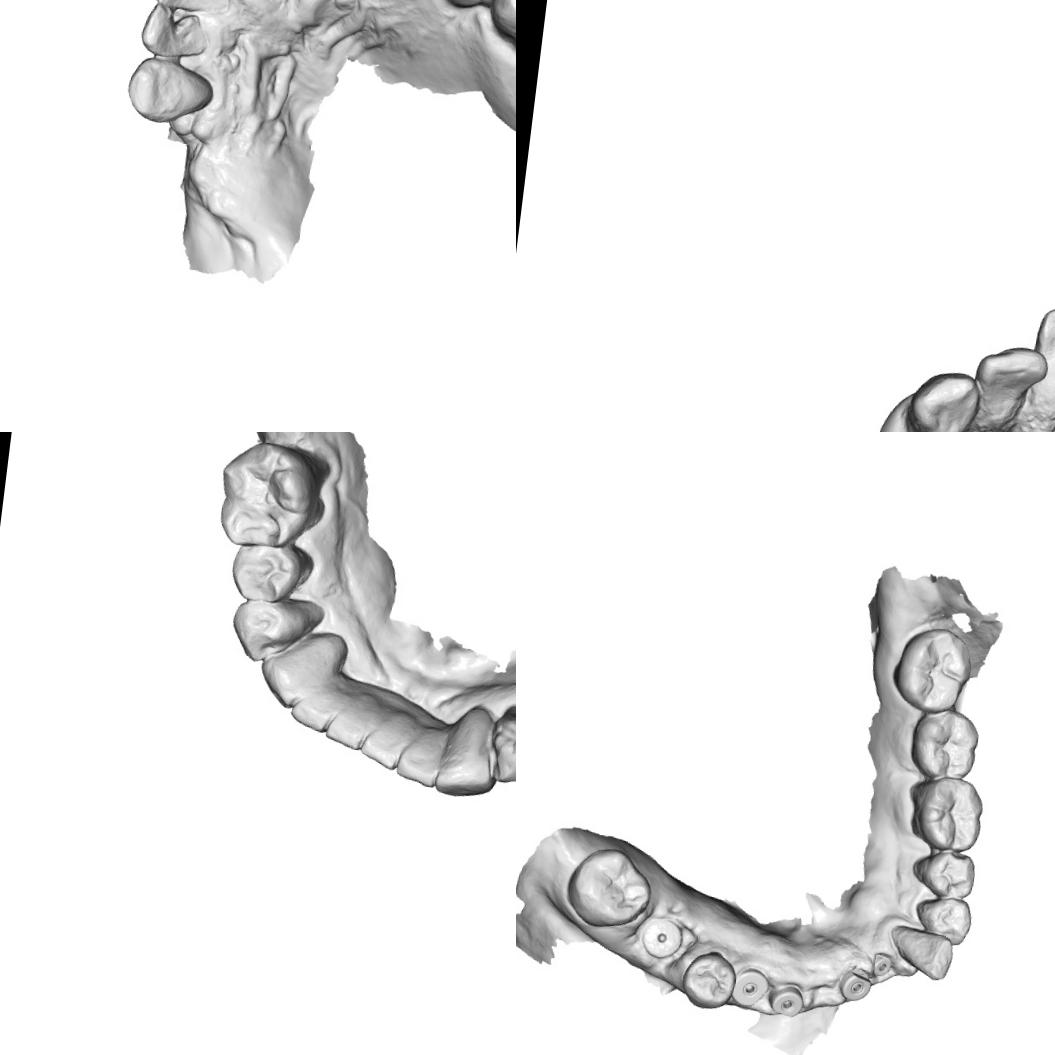canine: (122, 52, 218, 130), (431, 710, 502, 802), (254, 638, 330, 713), (906, 365, 984, 432), (886, 923, 956, 983)
implant: (637, 914, 688, 964), (729, 964, 772, 1010), (766, 980, 807, 1019), (836, 965, 873, 1004), (870, 951, 894, 978)
incisor: (971, 342, 1050, 416), (136, 3, 208, 62), (392, 728, 450, 790), (354, 718, 410, 774), (284, 683, 337, 736), (1031, 295, 1055, 407), (320, 702, 371, 752), (142, 0, 234, 18)
molar: (210, 434, 329, 552), (562, 841, 656, 934), (890, 622, 976, 718), (906, 773, 988, 854), (908, 703, 982, 783)
premolar: (226, 537, 304, 609), (226, 594, 300, 667), (678, 947, 740, 1014), (909, 846, 978, 902), (912, 892, 974, 948), (491, 709, 516, 788)
